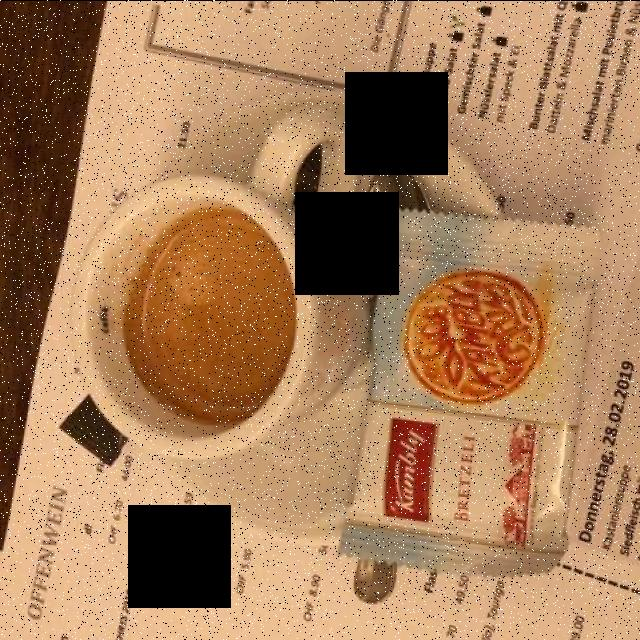ristretto-with-caffeine: (128, 209, 291, 422)
